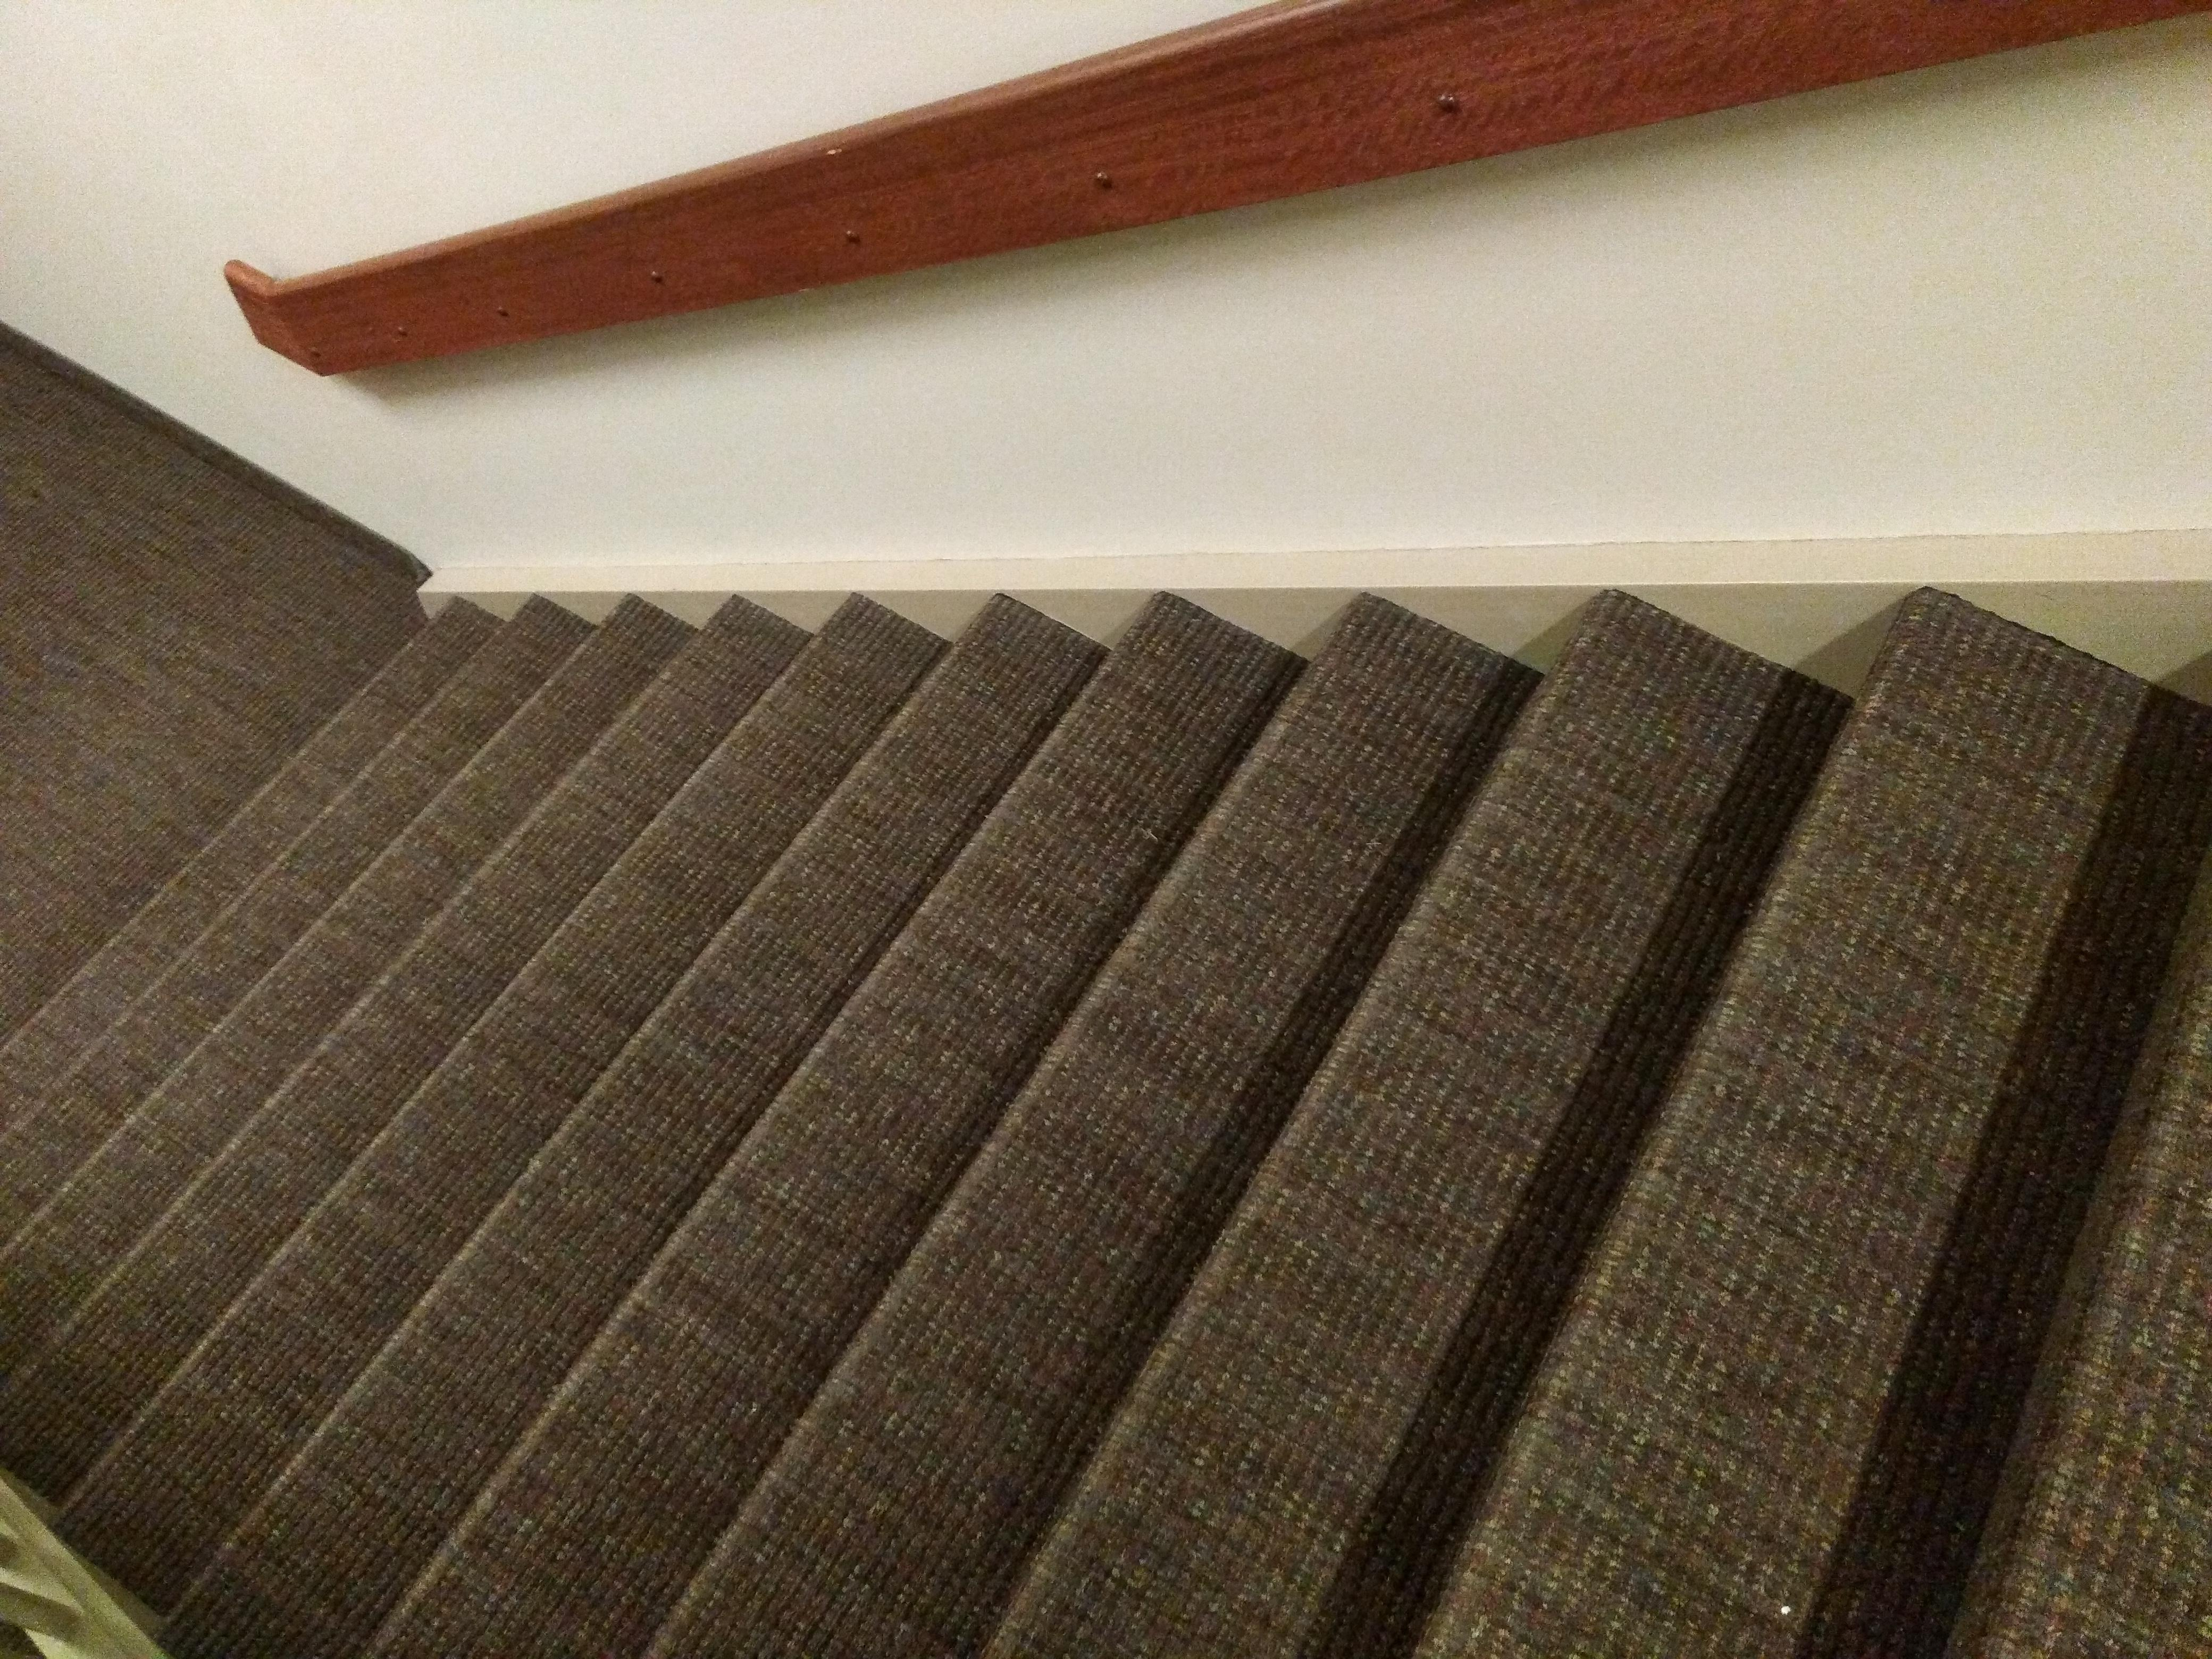stairs_down: (3, 565, 2203, 1659)
